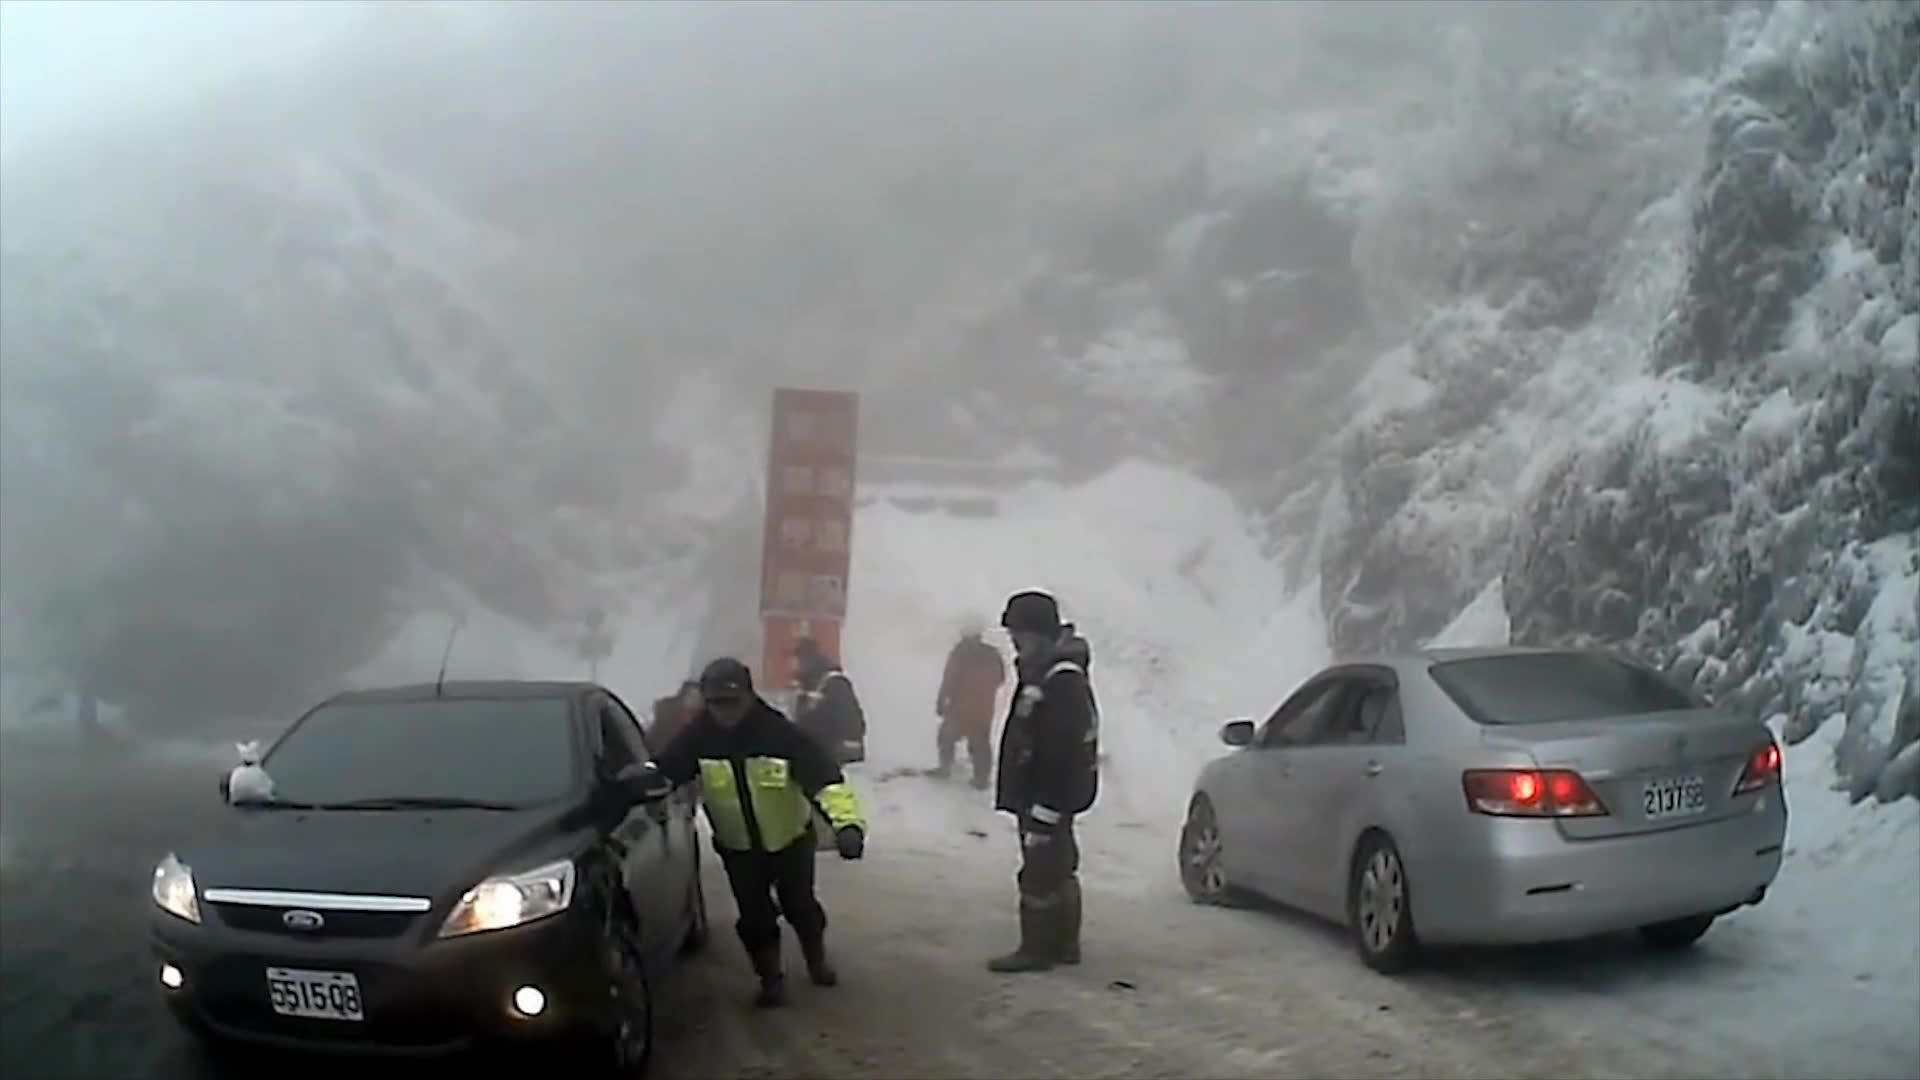pedestrian: (643, 657, 874, 1005), (986, 590, 1102, 979), (783, 638, 867, 857), (932, 607, 1008, 790)
vehicle: (146, 677, 710, 1079), (1171, 643, 1789, 976)
